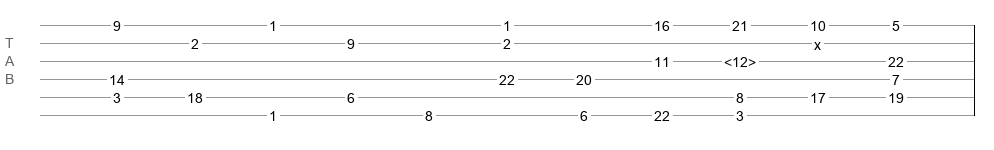1: (269, 108, 277, 118), (269, 18, 277, 28), (503, 18, 511, 28)
10: (810, 18, 826, 28)
11: (654, 54, 670, 64)
14: (109, 72, 125, 82)
16: (654, 18, 670, 28)
17: (810, 90, 826, 100)
18: (187, 90, 203, 100)
19: (888, 90, 904, 100)
2: (191, 36, 199, 46), (503, 36, 511, 46)
20: (576, 72, 592, 82)
21: (732, 18, 748, 28)
22: (499, 72, 515, 82), (654, 108, 670, 118), (888, 54, 904, 64)
3: (113, 90, 121, 100), (736, 108, 744, 118)
5: (892, 18, 900, 28)
6: (347, 90, 355, 100), (580, 108, 588, 118)
7: (892, 72, 900, 82)
8: (425, 108, 433, 118), (736, 90, 744, 100)
9: (113, 18, 121, 28), (347, 36, 355, 46)
harmonic: (724, 54, 756, 64)
x: (814, 37, 821, 45)
